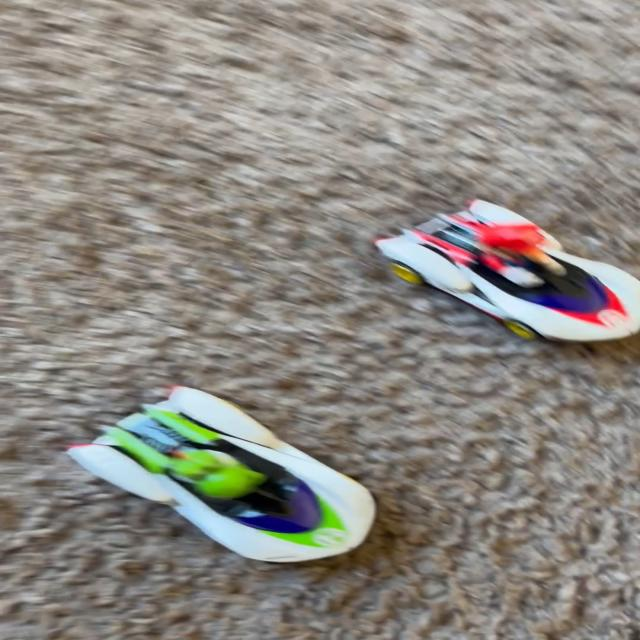mario: (349, 184, 640, 364)
yoshi: (80, 374, 406, 582)
